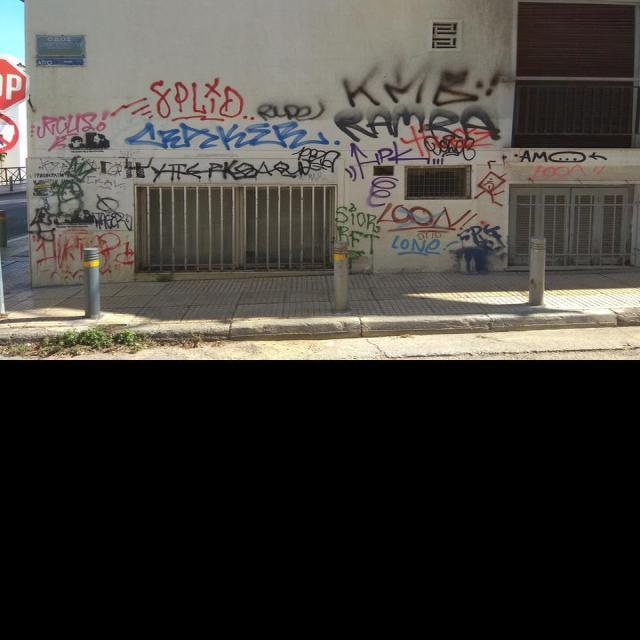nonspitting: (101, 147, 342, 182), (112, 76, 256, 122), (346, 142, 444, 207), (334, 106, 502, 141), (124, 122, 340, 149), (342, 70, 500, 106), (36, 228, 136, 282), (30, 111, 110, 152), (398, 125, 494, 156), (377, 204, 477, 232), (52, 156, 96, 215), (454, 225, 504, 272), (336, 202, 380, 255), (390, 235, 460, 258), (91, 193, 132, 232), (474, 159, 506, 206), (258, 100, 324, 120), (30, 207, 94, 225), (514, 150, 608, 162), (530, 164, 606, 178)
